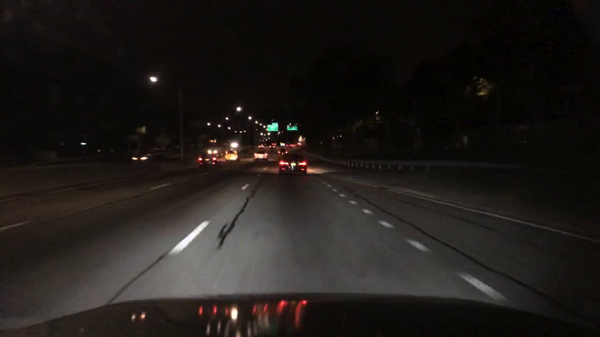car: (278, 154, 307, 176), (198, 152, 218, 168), (131, 152, 154, 162), (223, 150, 239, 162), (253, 150, 268, 162), (277, 147, 289, 156), (206, 147, 221, 154), (228, 141, 239, 150), (257, 143, 264, 150), (268, 143, 275, 149)
traffic sign: (266, 122, 278, 132), (286, 124, 297, 132)
